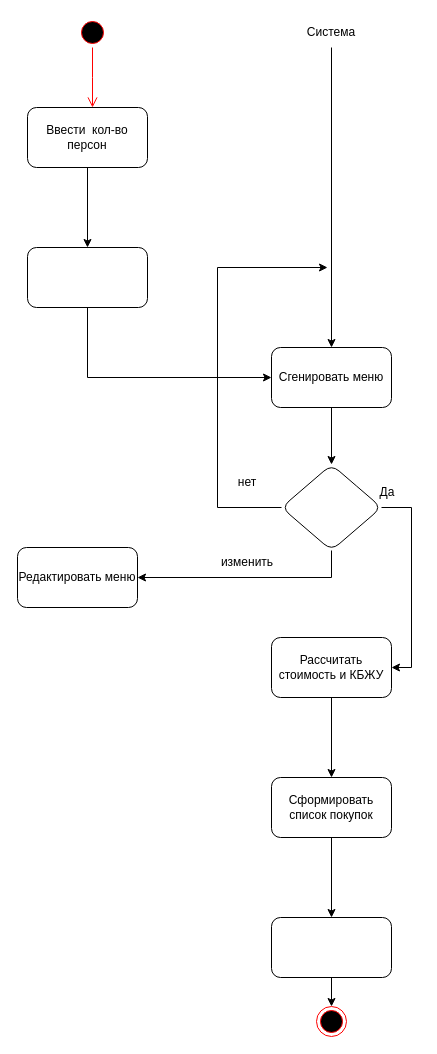
The diagram is 437 pixels wide and 1054 high, and some of its shapes have lost their labels. Here are the shapes that lost their labels. From the top down, the centre of each, then its label:
At pixel 87 277: "Ввести бюджет".
At pixel 331 507: "Меню подходит?".
At pixel 331 947: "Показать результат".
